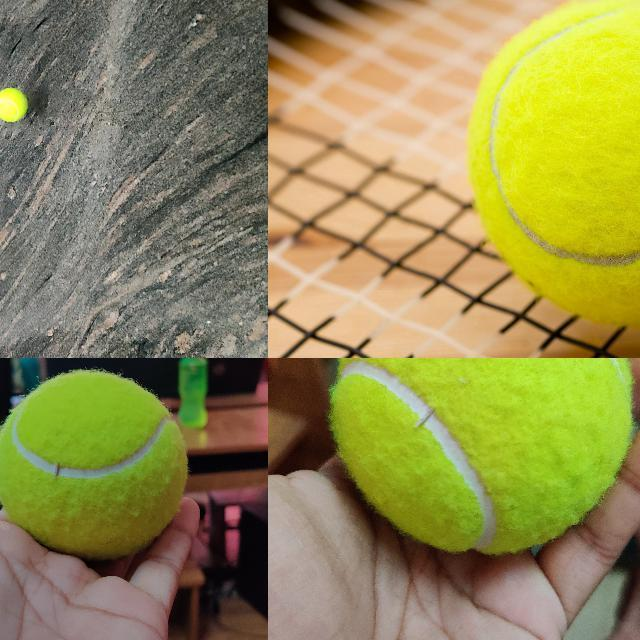tennis-ball: (331, 358, 631, 554), (464, 0, 639, 327), (0, 371, 187, 559), (0, 87, 29, 123)
